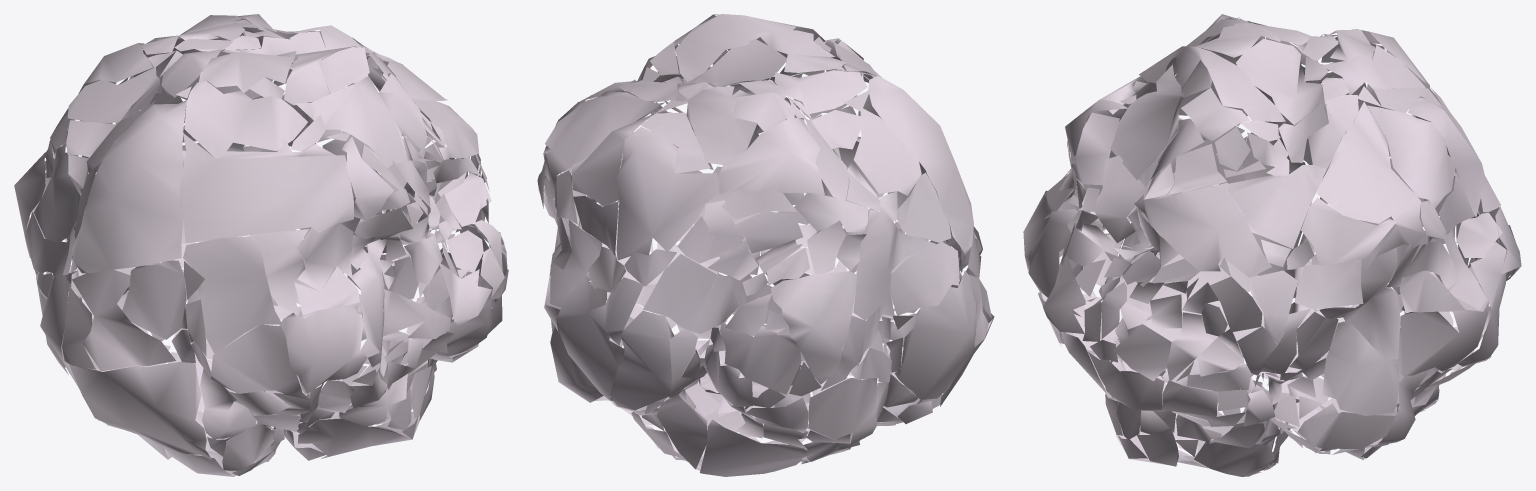
Rendered from waste-paper.glb.
3 views of the same model, side by side, from view 1: azimuth 30°, elevation 25°; view 2: azimuth 150°, elevation 25°; view 3: azimuth 270°, elevation 25° (orthographic). The views are drawn at different scales.
Parts seen in each view (by area): view 1: Mesh_0; view 2: Mesh_0; view 3: Mesh_0.
Boxes of the visible parts, x1,y1,x2,y2 form: Mesh_0: (14,14,508,476); Mesh_0: (537,14,994,476); Mesh_0: (1023,14,1521,476).
Size of the model in its own units: 1.9 by 1.72 by 1.9.
1 material, 1 textured.
